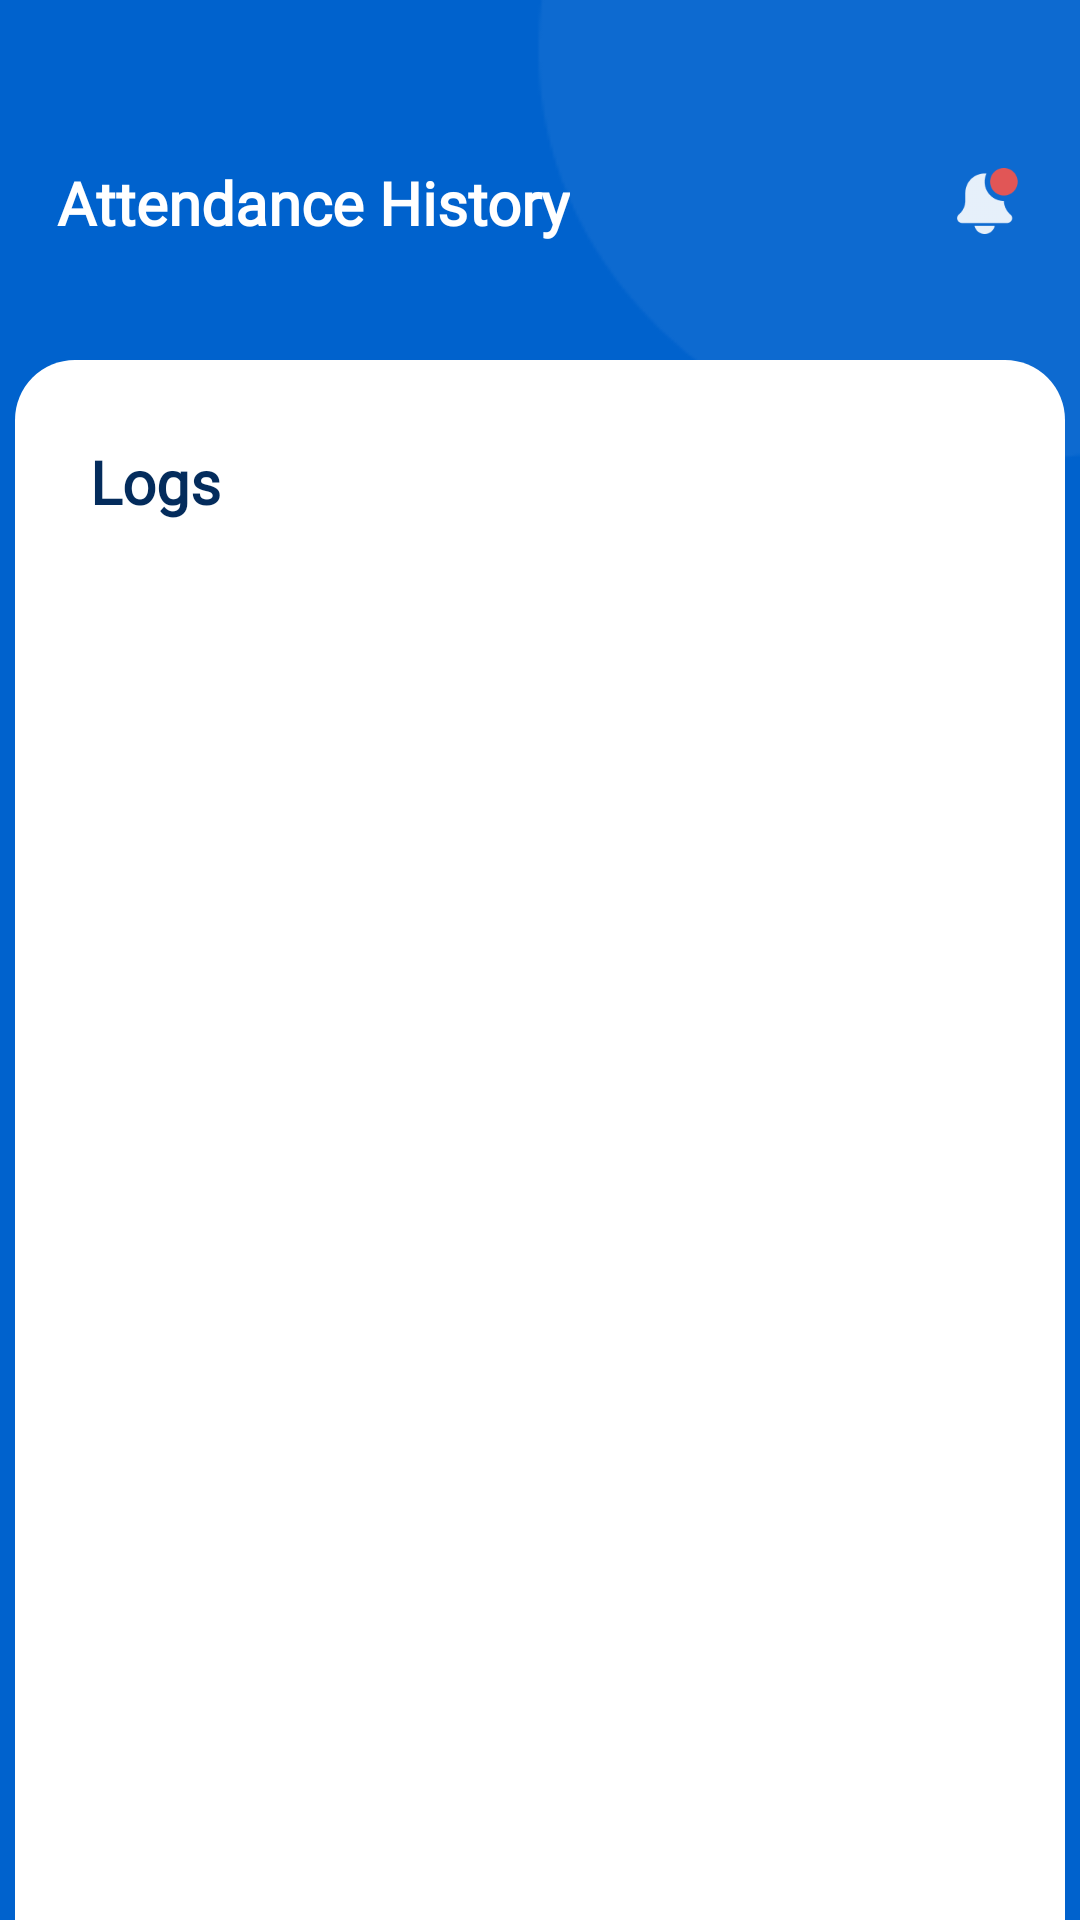

Locate icon controls on the screen. Image size 1080 x 1920, boxes as {"left": x1, "top": y1, "right": x2, "bottom": y2}.
notification: {"left": 957, "top": 168, "right": 1018, "bottom": 234}
